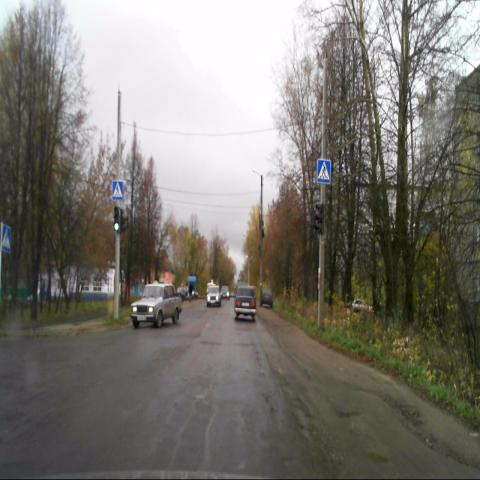5_19_1: (318, 158, 331, 184), (1, 224, 11, 253), (112, 181, 123, 200)
